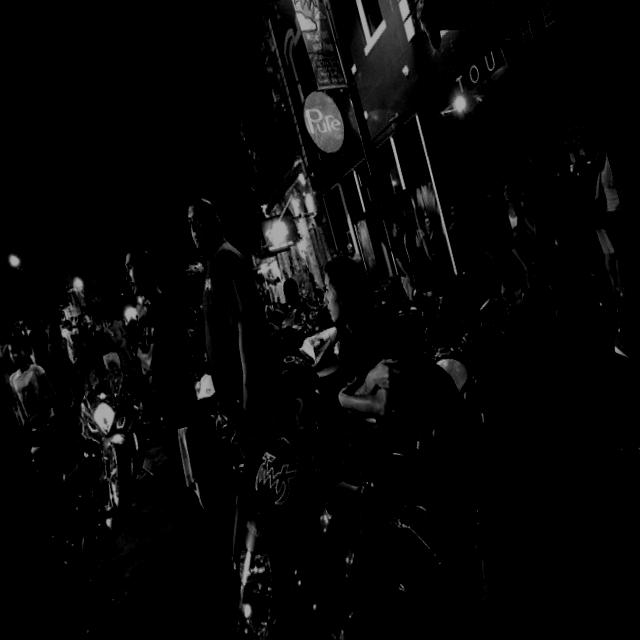Vehicle: (162, 336, 534, 640), (14, 401, 144, 640), (425, 276, 590, 438), (64, 352, 177, 540), (581, 252, 640, 547), (200, 386, 263, 492), (272, 324, 352, 406), (269, 318, 315, 360)
